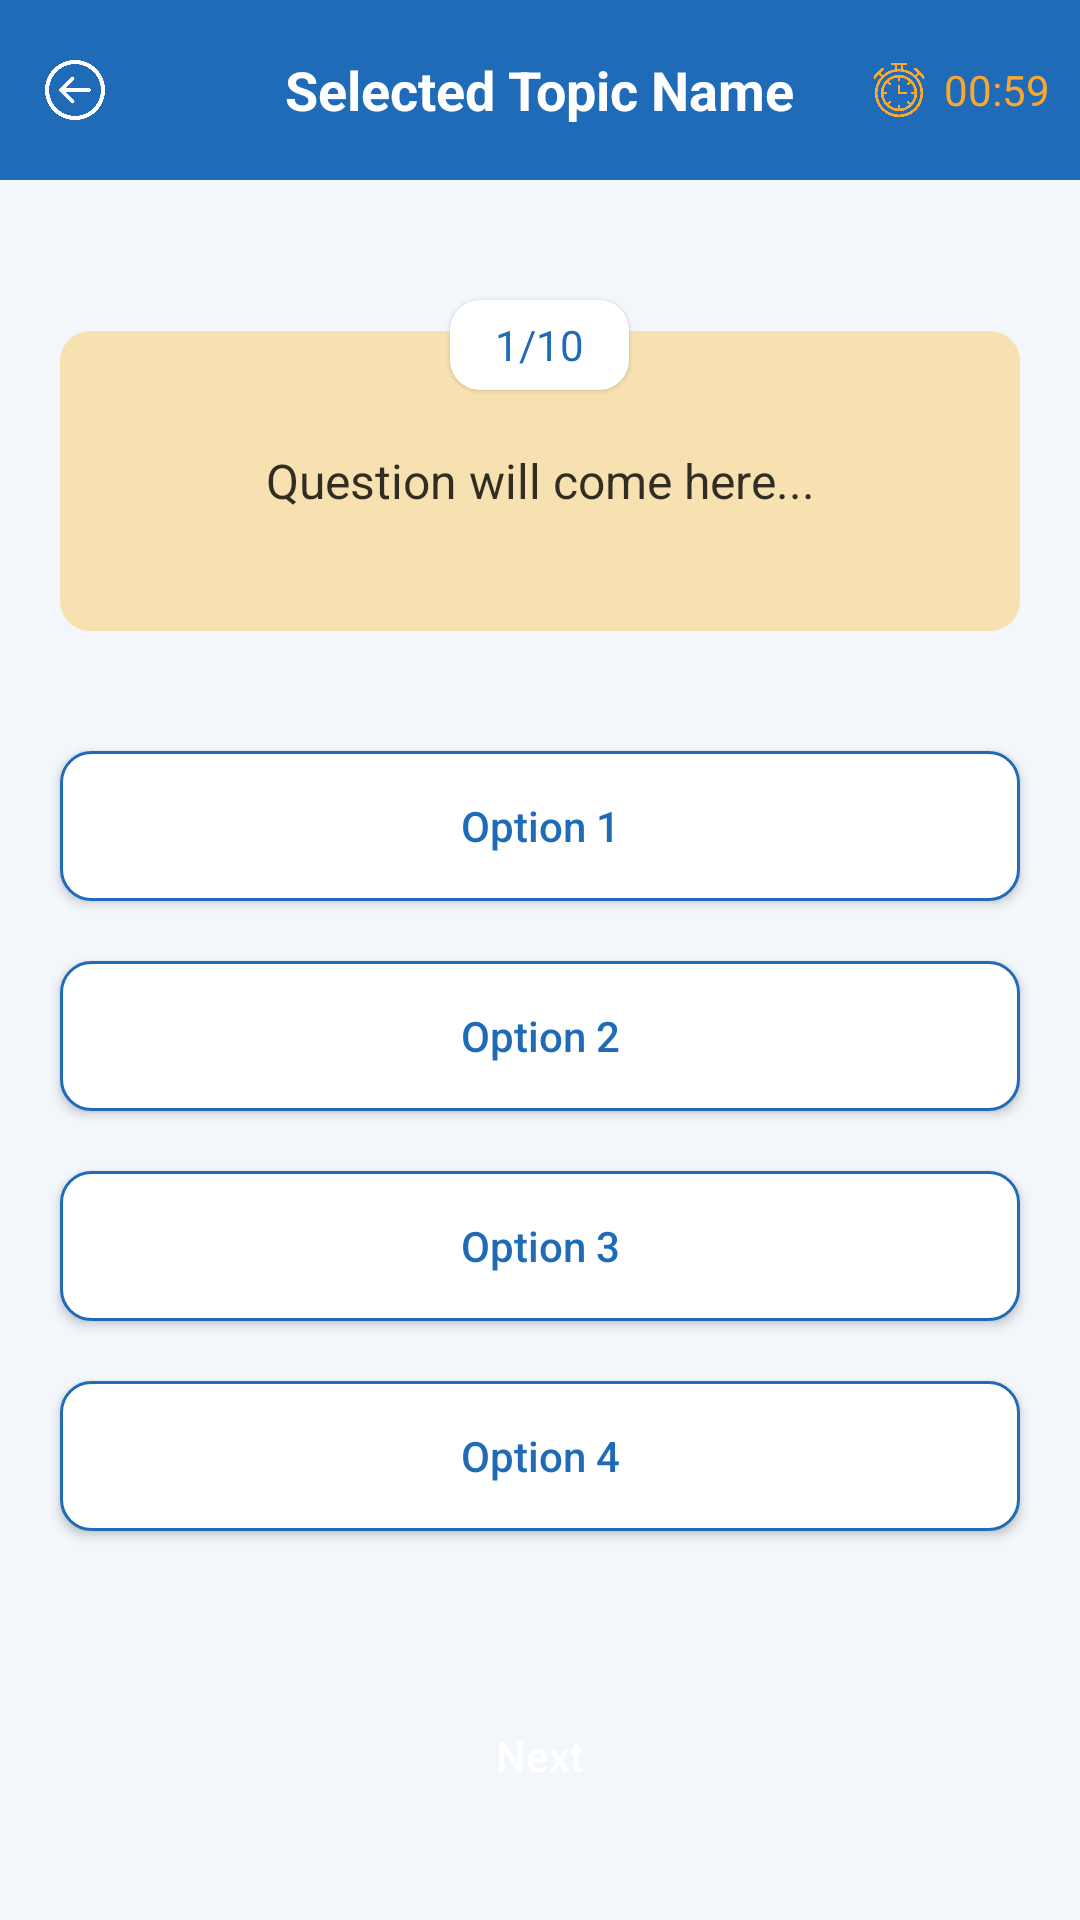

Icons on this 1080 x 1920 Android screen, each with its box as bbox(x1, y1, x2, y2):
back: bbox(45, 60, 105, 120)
timer: bbox(873, 63, 925, 117)
